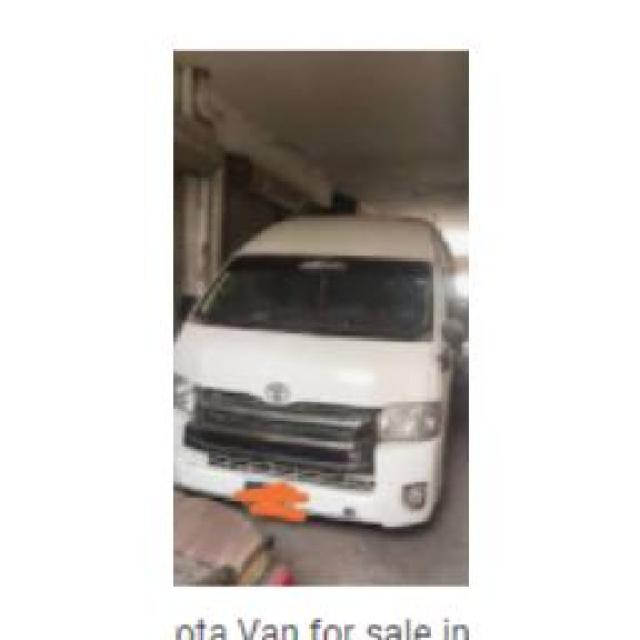Van: (170, 206, 463, 526)
